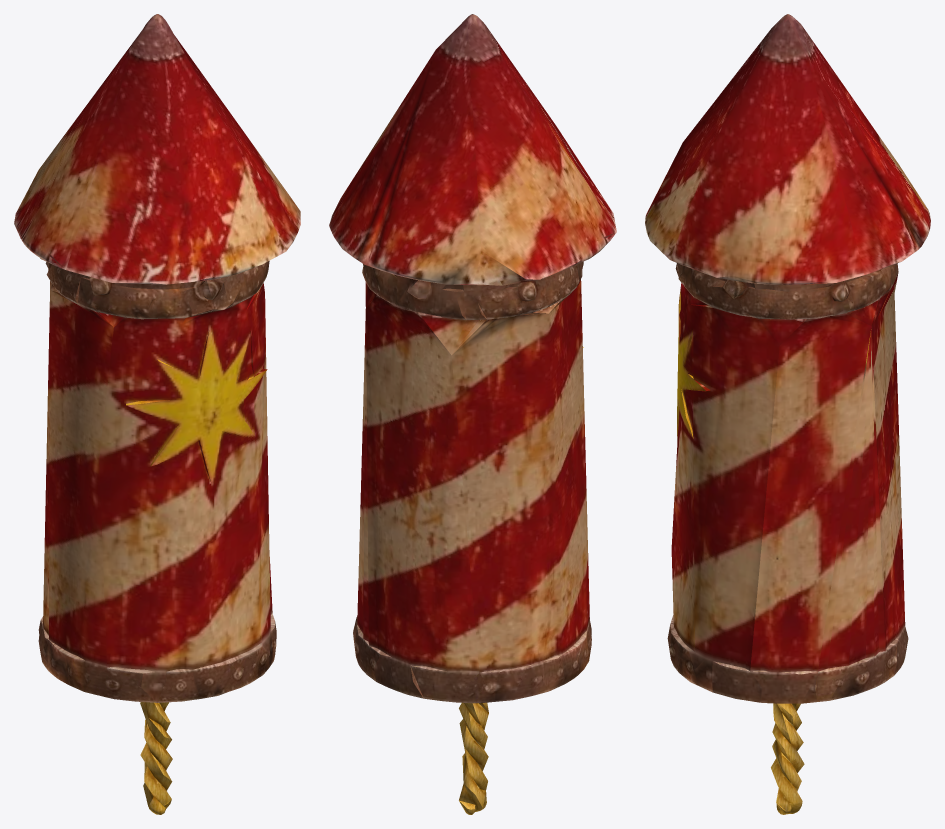
The model's file is firework.glb.
3 views of the same model, side by side, from view 1: azimuth 30°, elevation 25°; view 2: azimuth 150°, elevation 25°; view 3: azimuth 270°, elevation 25° (orthographic).
Parts seen in each view (by area): view 1: Mesh_0; view 2: Mesh_0; view 3: Mesh_0.
Part boxes in pixels (bbox=[...]): Mesh_0: bbox=[14, 14, 300, 814]; Mesh_0: bbox=[329, 14, 616, 814]; Mesh_0: bbox=[645, 14, 930, 814].
Bounding box in the file's own units: 0.6169 × 1.9 × 0.6166.
1 material, 1 textured.
